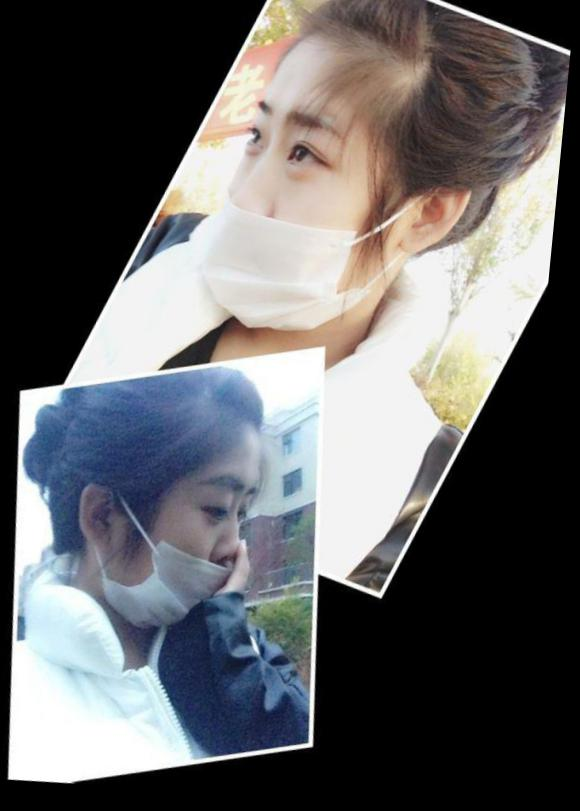WRONG: (183, 107, 438, 359), (98, 469, 275, 646)
